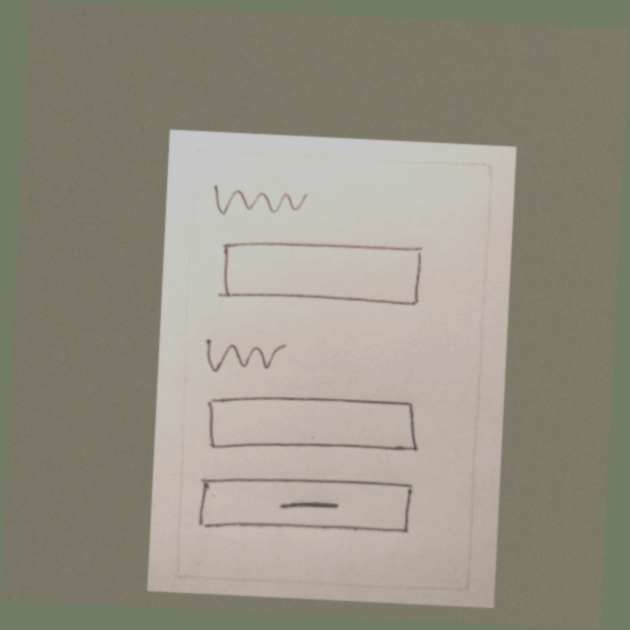button: (191, 469, 419, 545)
text: (206, 177, 312, 225), (197, 330, 292, 379)
text_input: (208, 231, 429, 317), (196, 389, 426, 465)
